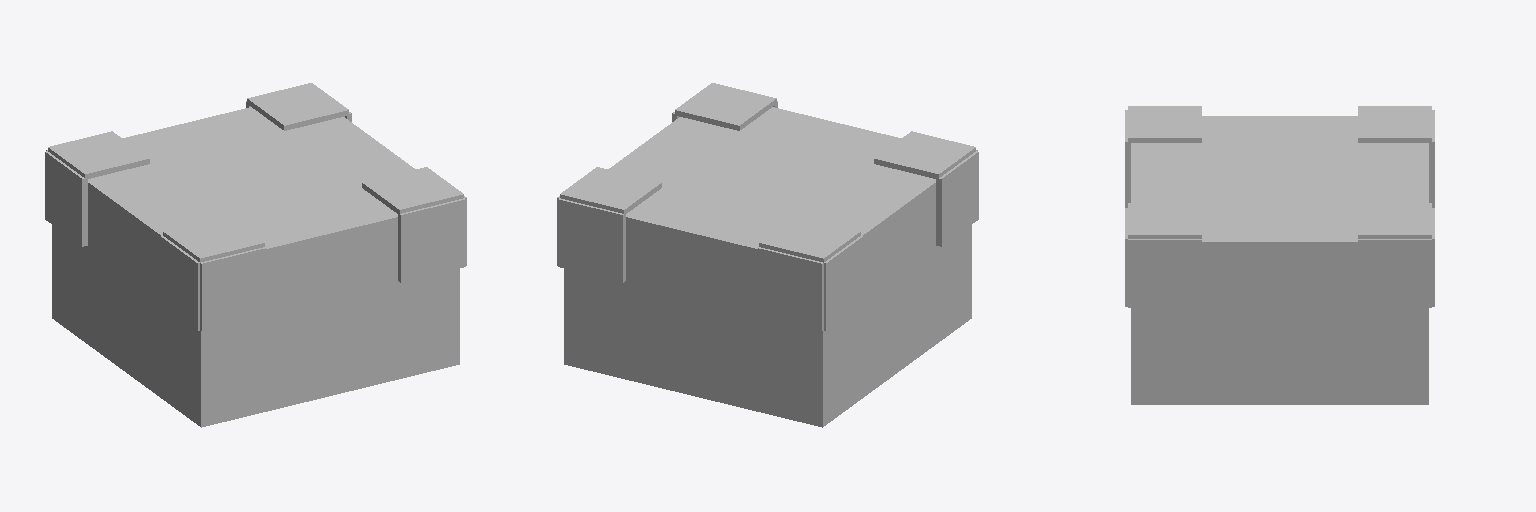
Rendered from mesaEncantamientosAbajo.obj.
3 views of the same model, side by side, from view 1: azimuth 30°, elevation 25°; view 2: azimuth 150°, elevation 25°; view 3: azimuth 270°, elevation 25° (orthographic).
Visible parts, largest first — view 1: Cube.001, Cube.005, Cube.010, Cube.012, Cube.002, Cube.013, Cube.007, Cube.009, Cube.008; view 2: Cube.001, Cube.004, Cube.011, Cube.009, Cube.007, Cube.008, Cube.002, Cube.012, Cube.013; view 3: Cube.001, Cube.003, Cube.006, Cube.008, Cube.013, Cube.002, Cube.007.
Boxes of the visible parts, <box> form: Cube.001: <box>52,107,459,427</box>; Cube.005: <box>398,198,465,282</box>; Cube.010: <box>200,247,265,330</box>; Cube.012: <box>45,151,87,246</box>; Cube.002: <box>247,83,348,130</box>; Cube.013: <box>48,131,149,178</box>; Cube.007: <box>362,167,463,214</box>; Cube.009: <box>160,235,199,330</box>; Cube.008: <box>163,216,264,262</box>; Cube.001: <box>564,107,971,427</box>; Cube.004: <box>558,198,625,282</box>; Cube.011: <box>758,247,823,330</box>; Cube.009: <box>936,151,978,246</box>; Cube.007: <box>675,83,776,130</box>; Cube.008: <box>874,131,975,178</box>; Cube.002: <box>560,167,661,214</box>; Cube.012: <box>824,235,863,330</box>; Cube.013: <box>759,216,860,262</box>; Cube.001: <box>1131,116,1428,404</box>; Cube.003: <box>1358,239,1431,307</box>; Cube.006: <box>1128,239,1201,307</box>; Cube.008: <box>1128,106,1201,142</box>; Cube.013: <box>1358,106,1431,142</box>; Cube.002: <box>1358,203,1431,238</box>; Cube.007: <box>1128,203,1201,238</box>.
Bounding box in the file's own units: 1.78 × 1.08 × 1.78.